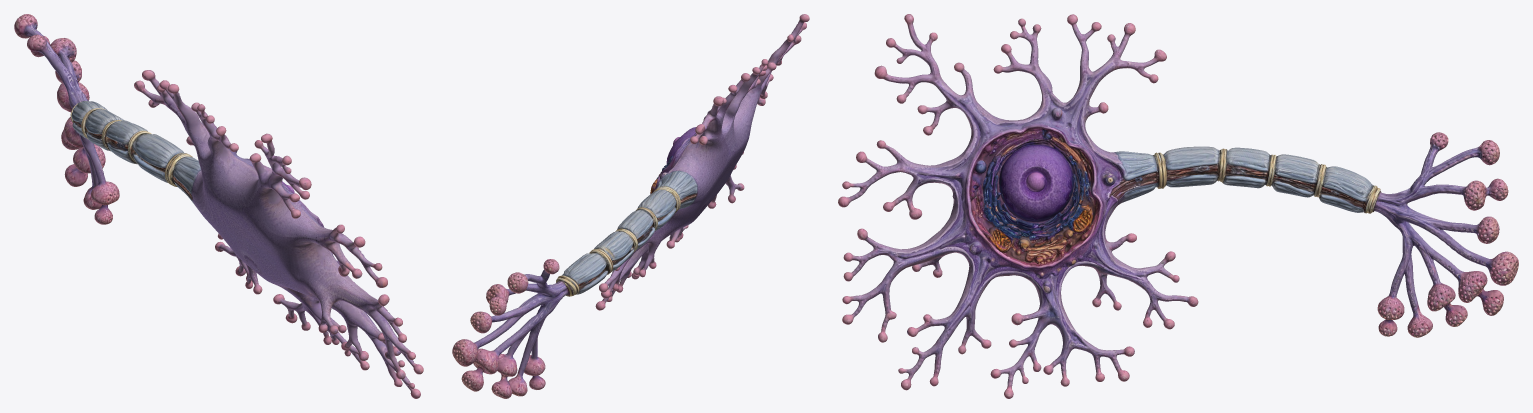
The model's file is neuron-tripo-web.glb.
3 renders of one model, left to right at view 1: azimuth 30°, elevation 25°; view 2: azimuth 150°, elevation 25°; view 3: azimuth 270°, elevation 25°, orthographic. The views are drawn at different scales.
Visible parts, largest first — view 1: tripo_node_dedd020e-40b1-45cc-97e3-32b6722945a1; view 2: tripo_node_dedd020e-40b1-45cc-97e3-32b6722945a1; view 3: tripo_node_dedd020e-40b1-45cc-97e3-32b6722945a1.
Part boxes in pixels (x1,y1,x2,y2): tripo_node_dedd020e-40b1-45cc-97e3-32b6722945a1: (14,14,423,398); tripo_node_dedd020e-40b1-45cc-97e3-32b6722945a1: (452,14,809,398); tripo_node_dedd020e-40b1-45cc-97e3-32b6722945a1: (838,14,1518,398).
Size of the model in its own units: 0.2838 by 0.494 by 0.9798.
Materials: 1 (1 with a texture image).
